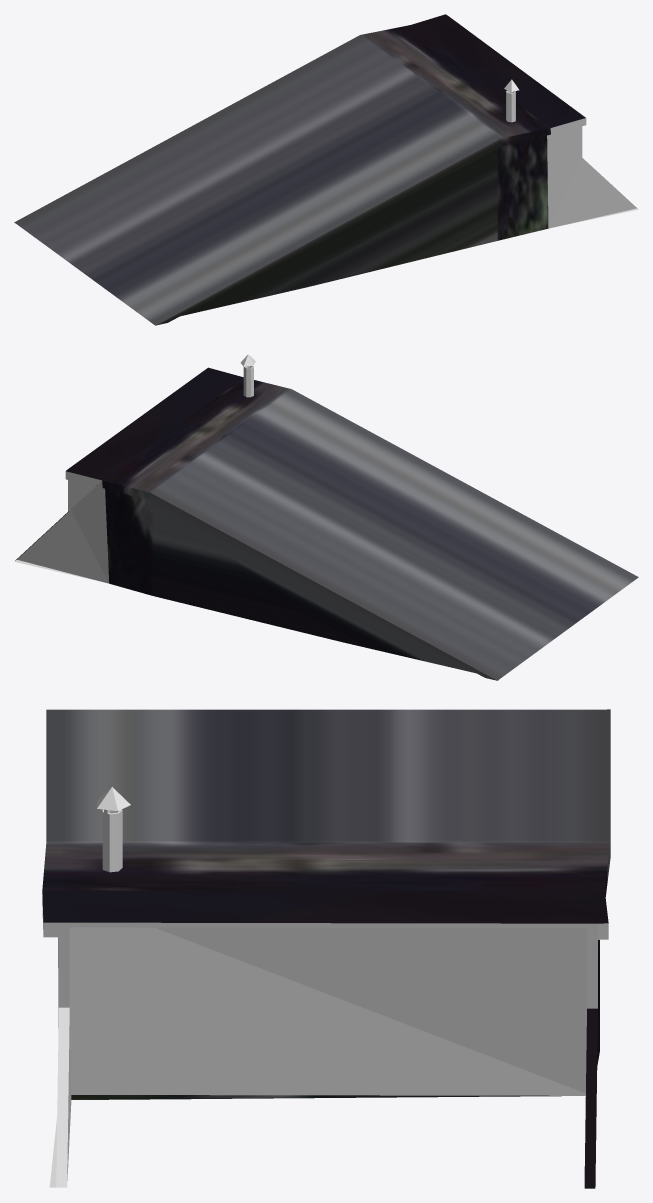
Rendered from подземный.fbx.
3 renders of one model, top to bottom at view 1: azimuth 30°, elevation 25°; view 2: azimuth 150°, elevation 25°; view 3: azimuth 270°, elevation 25°, orthographic. The views are drawn at different scales.
Parts seen in each view (by area): view 1: _(Loose Entity); view 2: _(Loose Entity); view 3: _(Loose Entity), Cylinder.
Boxes of the visible parts, <box> form: _(Loose Entity): <box>14,14,638,325</box>; _(Loose Entity): <box>14,367,638,680</box>; _(Loose Entity): <box>42,709,610,1188</box>; Cylinder: <box>102,809,122,872</box>.
Bounding box in the file's own units: 2150 × 617 × 1089.
